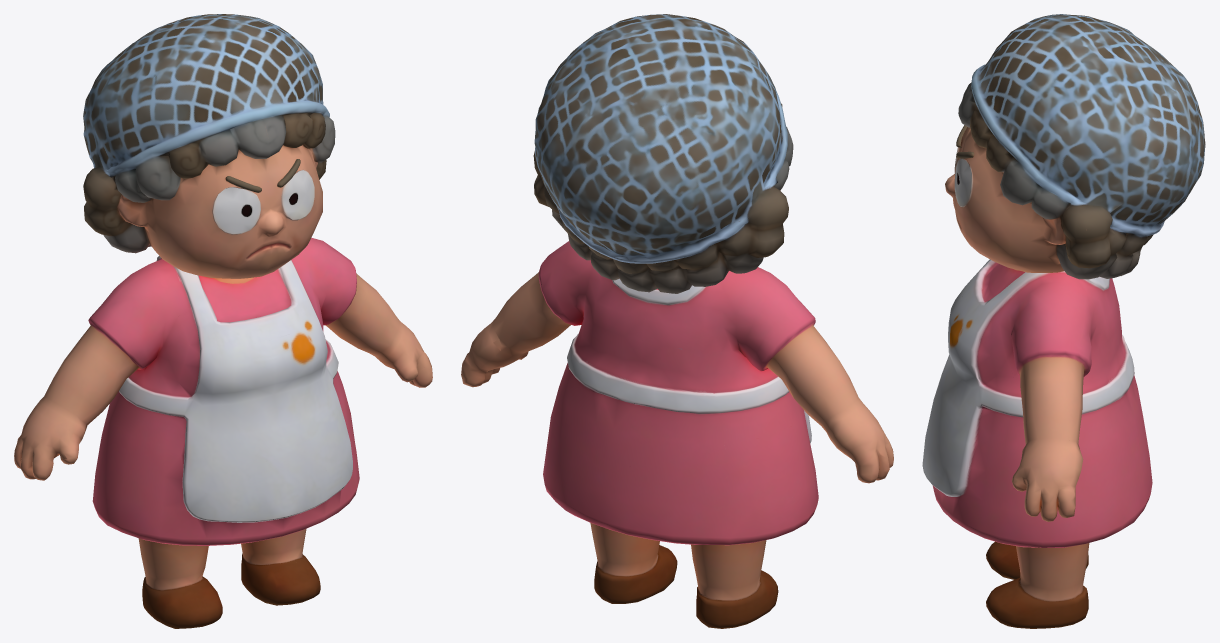
File: teacher_lunch.glb
3 renders of one model, left to right at view 1: azimuth 30°, elevation 25°; view 2: azimuth 150°, elevation 25°; view 3: azimuth 270°, elevation 25°, orthographic. The views are drawn at different scales.
Visible parts, largest first — view 1: geometry_0; view 2: geometry_0; view 3: geometry_0.
Boxes of the visible parts, bbox=[...] form: geometry_0: bbox=[14, 14, 432, 628]; geometry_0: bbox=[461, 14, 893, 628]; geometry_0: bbox=[922, 14, 1205, 628].
Bounding box in the file's own units: 0.7139 × 0.9502 × 0.4307.
Materials: 1 (1 with a texture image).
